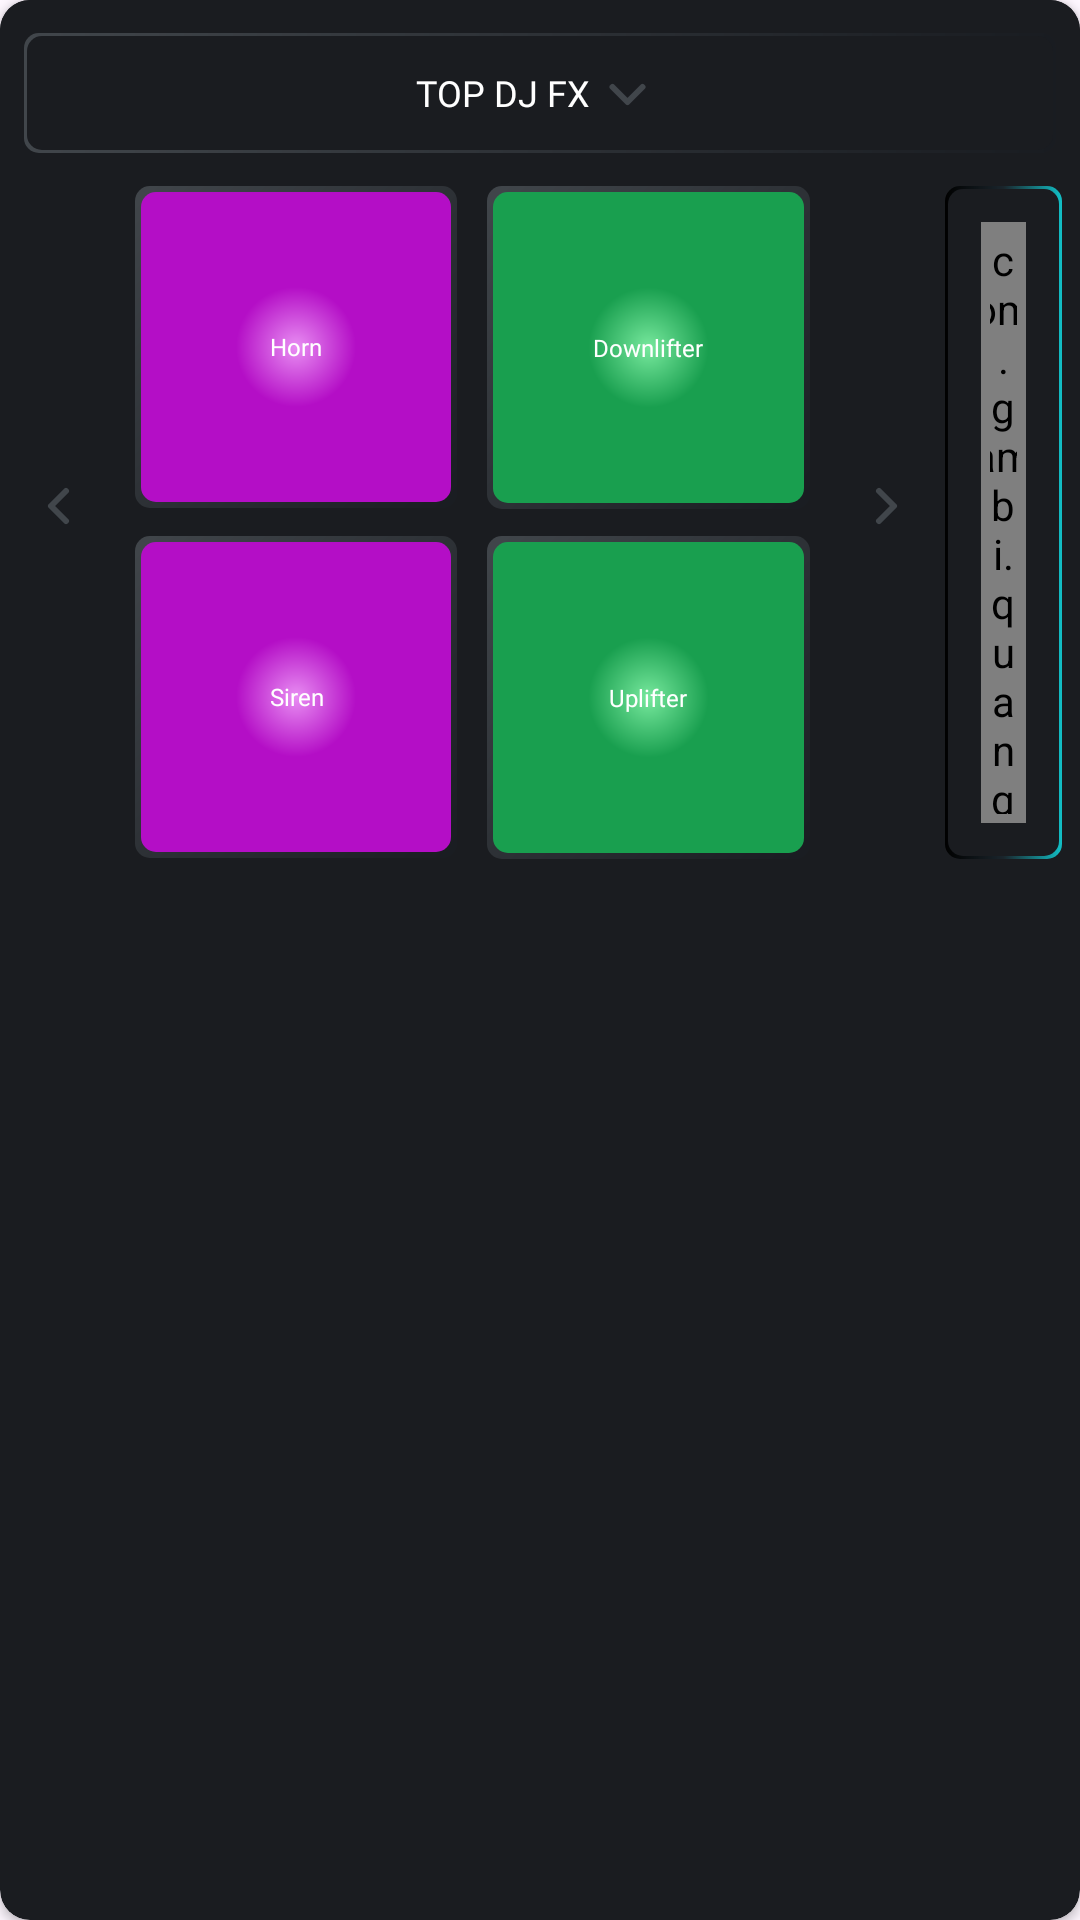

Where to tap for icons on this 1080 x 1920 app screen, as (x=x, y=y):
arrow bigger: (x=886, y=506)
arrow smaller: (x=58, y=506)
